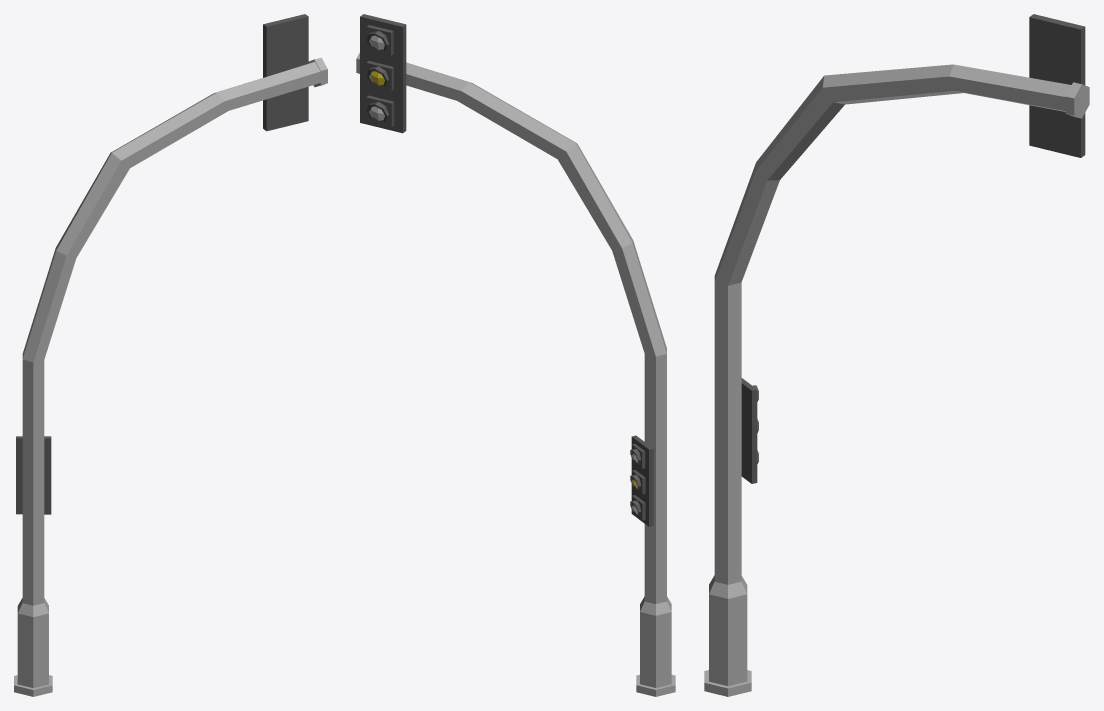
Rendered from Traffic Light.fbx.
3 renders of one model, left to right at view 1: azimuth 30°, elevation 25°; view 2: azimuth 150°, elevation 25°; view 3: azimuth 330°, elevation 25°, orthographic. The views are drawn at different scales.
Parts seen in each view (by area): view 1: Traffic Light; view 2: Traffic Light; view 3: Traffic Light.
Part boxes in pixels (x1=…): Traffic Light: x1=14, y1=14, x2=327, y2=696; Traffic Light: x1=356, y1=14, x2=675, y2=696; Traffic Light: x1=704, y1=14, x2=1089, y2=696.
Size of the model in its own units: 398 by 57.13 by 739.
